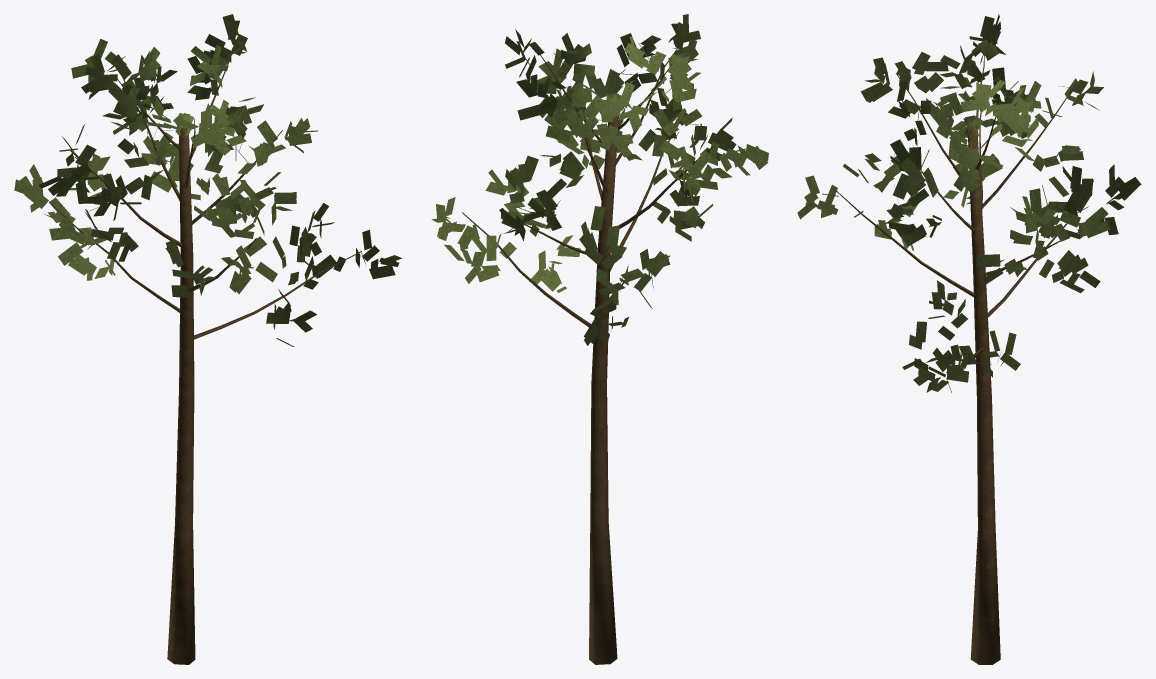
Rendered from pine_open_v03_LOD2.fbx.
The picture shows the model from 3 angles, left to right: view 1: azimuth 30°, elevation 25°; view 2: azimuth 150°, elevation 25°; view 3: azimuth 270°, elevation 25°; orthographic projection. The views are drawn at different scales.
Visible parts, largest first — view 1: pine_open_v03_LOD2; view 2: pine_open_v03_LOD2; view 3: pine_open_v03_LOD2.
Boxes of the visible parts, x1=… form: pine_open_v03_LOD2: x1=14, y1=14, x2=401, y2=664; pine_open_v03_LOD2: x1=431, y1=14, x2=768, y2=664; pine_open_v03_LOD2: x1=797, y1=14, x2=1141, y2=664.
Bounding box in the file's own units: 1617 × 1418 × 2761.
2 materials, 2 textured.
